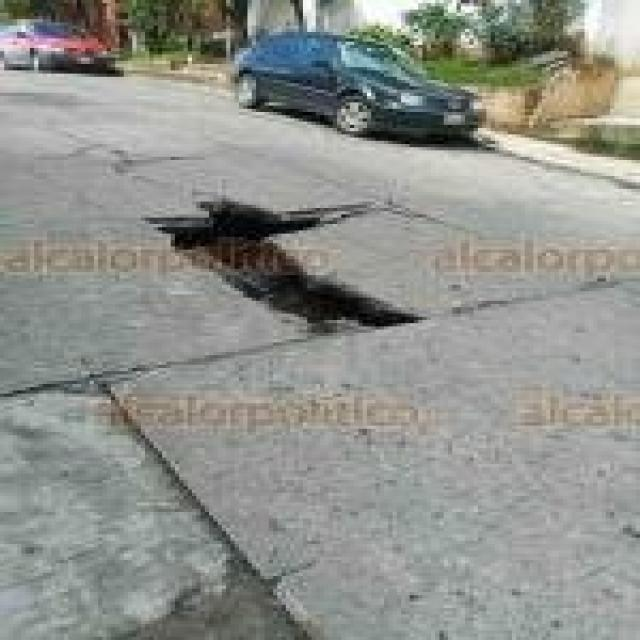Buraco: (146, 194, 432, 340)
